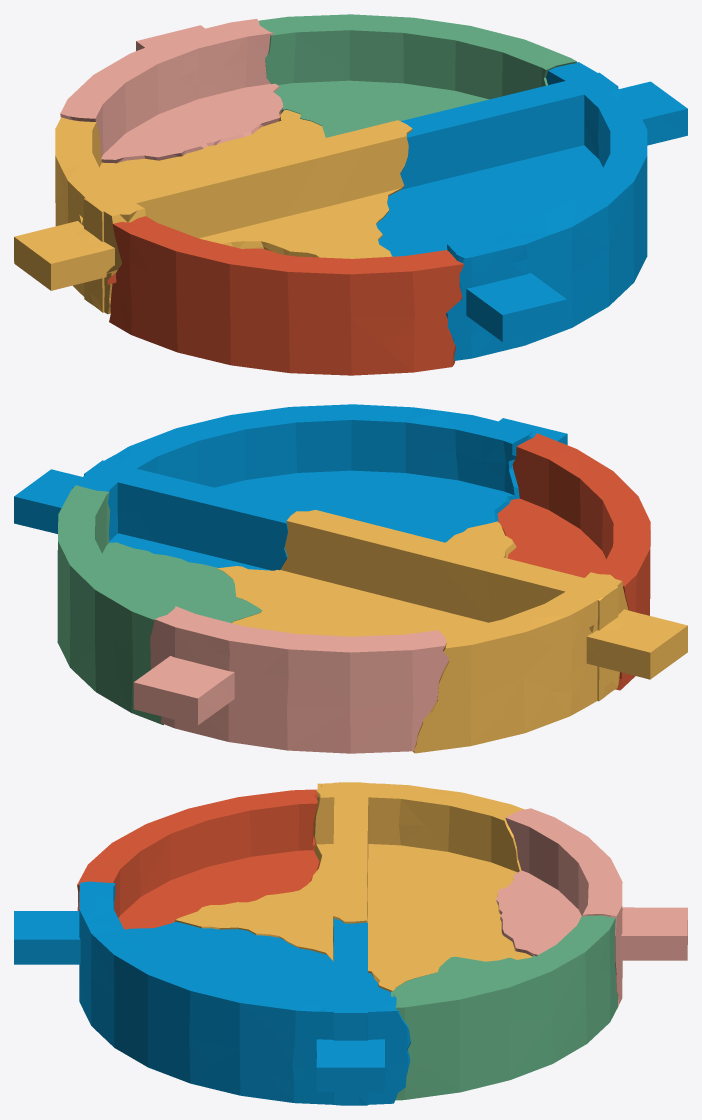
3 renders of one model, top to bottom at view 1: azimuth 30°, elevation 25°; view 2: azimuth 150°, elevation 25°; view 3: azimuth 270°, elevation 25°, orthographic. The views are drawn at different scales.
Parts seen in each view (by area): view 1: Object_piece_4.003, Object_piece_4, Object_piece_4.001, Object_piece_4.002, Object_piece_4.004; view 2: Object_piece_4, Object_piece_4.003, Object_piece_4.004, Object_piece_4.002, Object_piece_4.001; view 3: Object_piece_4.003, Object_piece_4, Object_piece_4.002, Object_piece_4.001, Object_piece_4.004.
Boxes of the visible parts, x1,y1,x2,y2 form: Object_piece_4.003: (376,62,687,360); Object_piece_4: (14,110,412,314); Object_piece_4.001: (107,216,464,375); Object_piece_4.002: (259,14,576,137); Object_piece_4.004: (60,18,282,163); Object_piece_4: (217,510,687,753); Object_piece_4.003: (14,404,567,570); Object_piece_4.004: (133,606,449,753); Object_piece_4.002: (57,485,262,725); Object_piece_4.001: (497,433,650,690); Object_piece_4.003: (14,881,410,1105); Object_piece_4: (175,782,532,991); Object_piece_4.002: (391,915,618,1100); Object_piece_4.001: (77,789,319,929); Object_piece_4.004: (496,808,687,1005).
Size of the model in its own units: 0.9997 by 0.1689 by 1.
